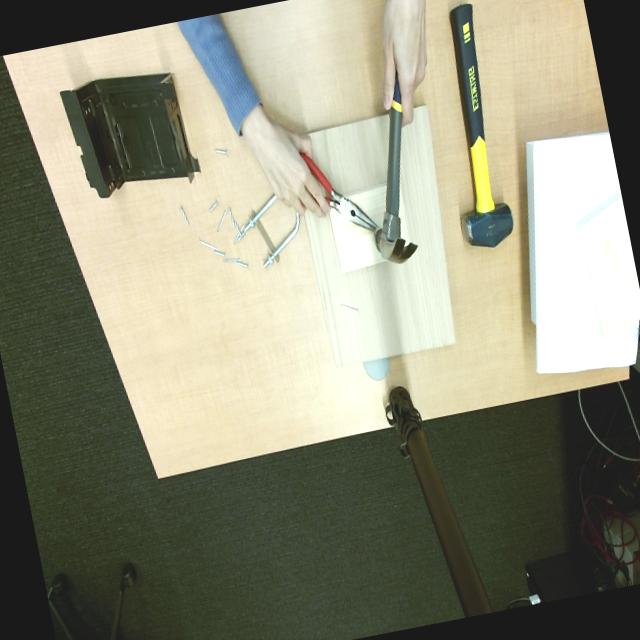hammer: (450, 3, 513, 247), (375, 74, 417, 264)
pliers: (300, 151, 380, 233)
